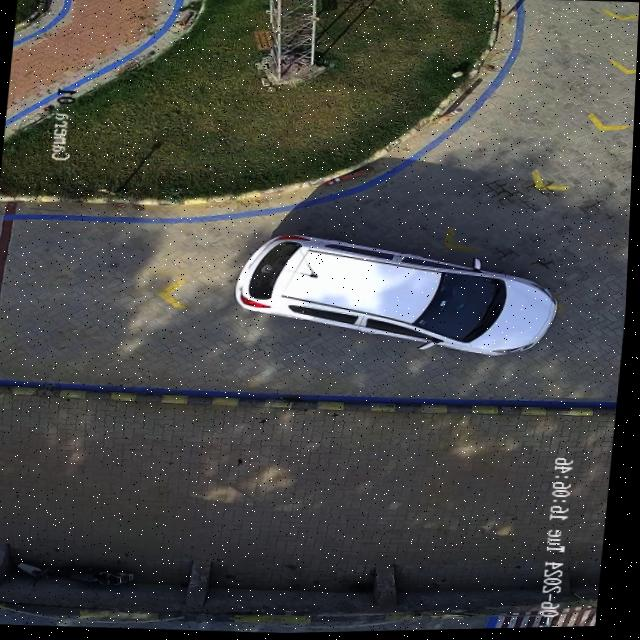car: (239, 236, 558, 359)
